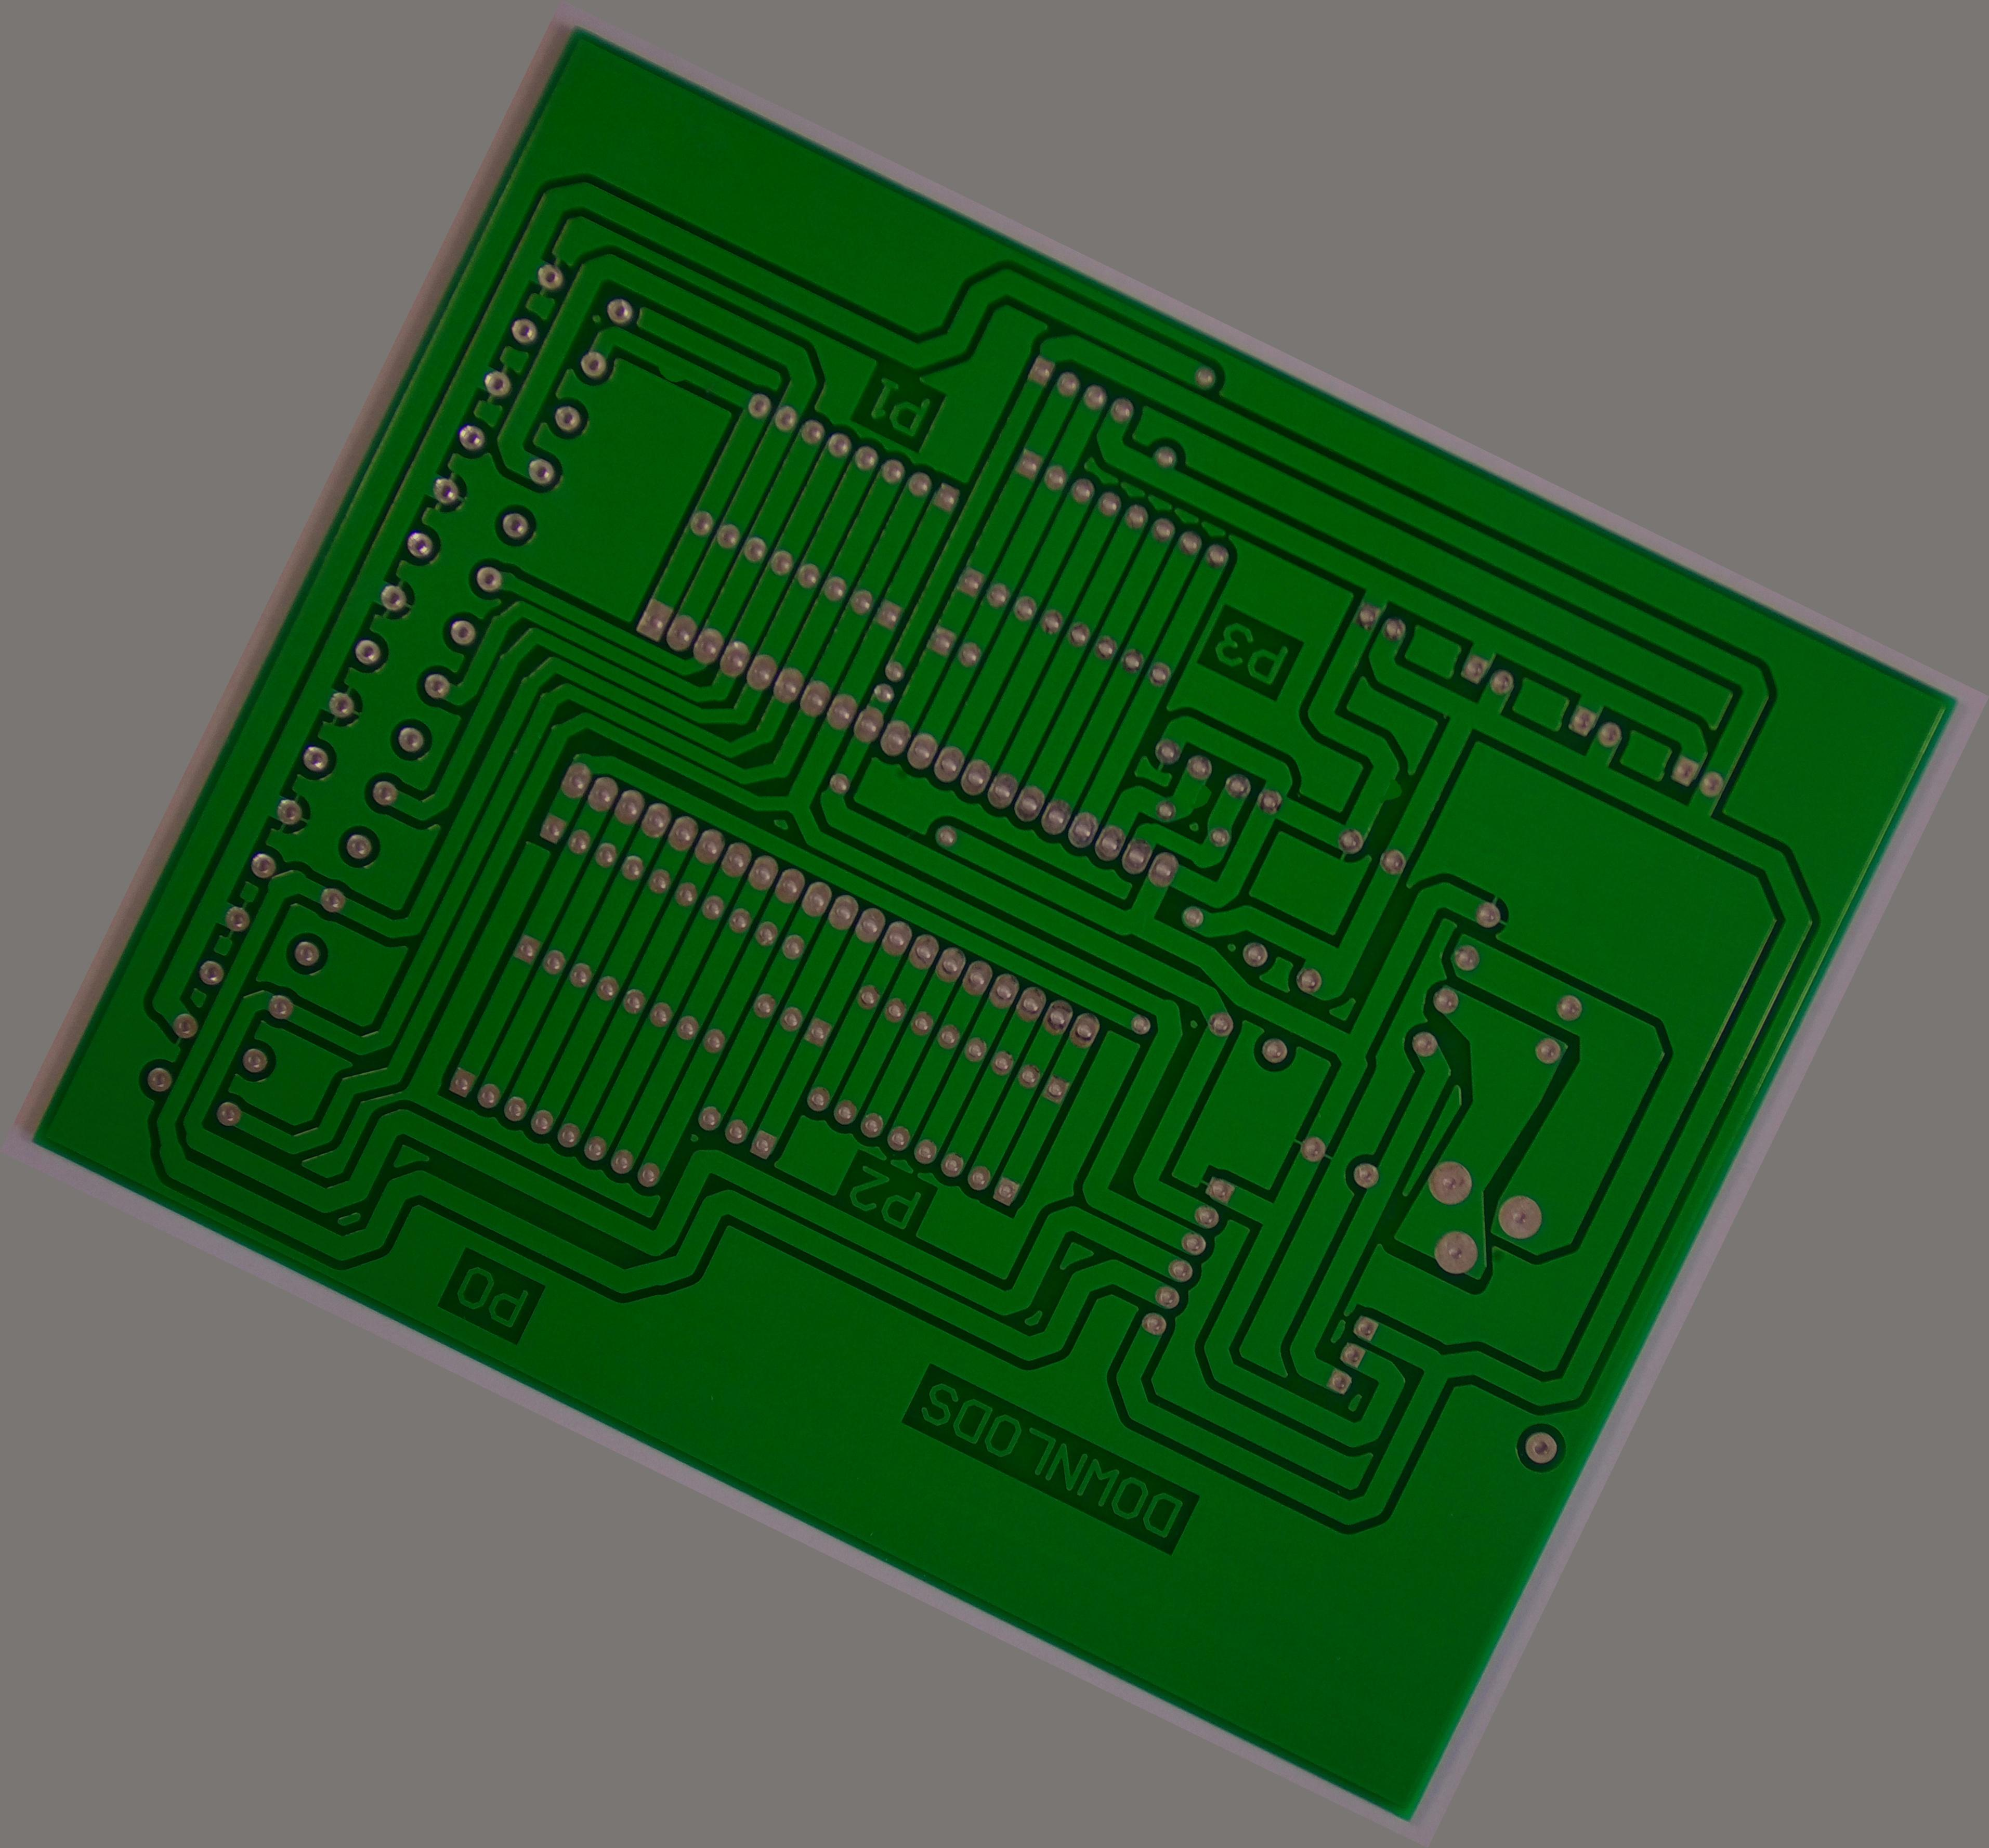spur: (644, 349, 698, 394), (1369, 761, 1416, 811), (1178, 771, 1223, 820)
